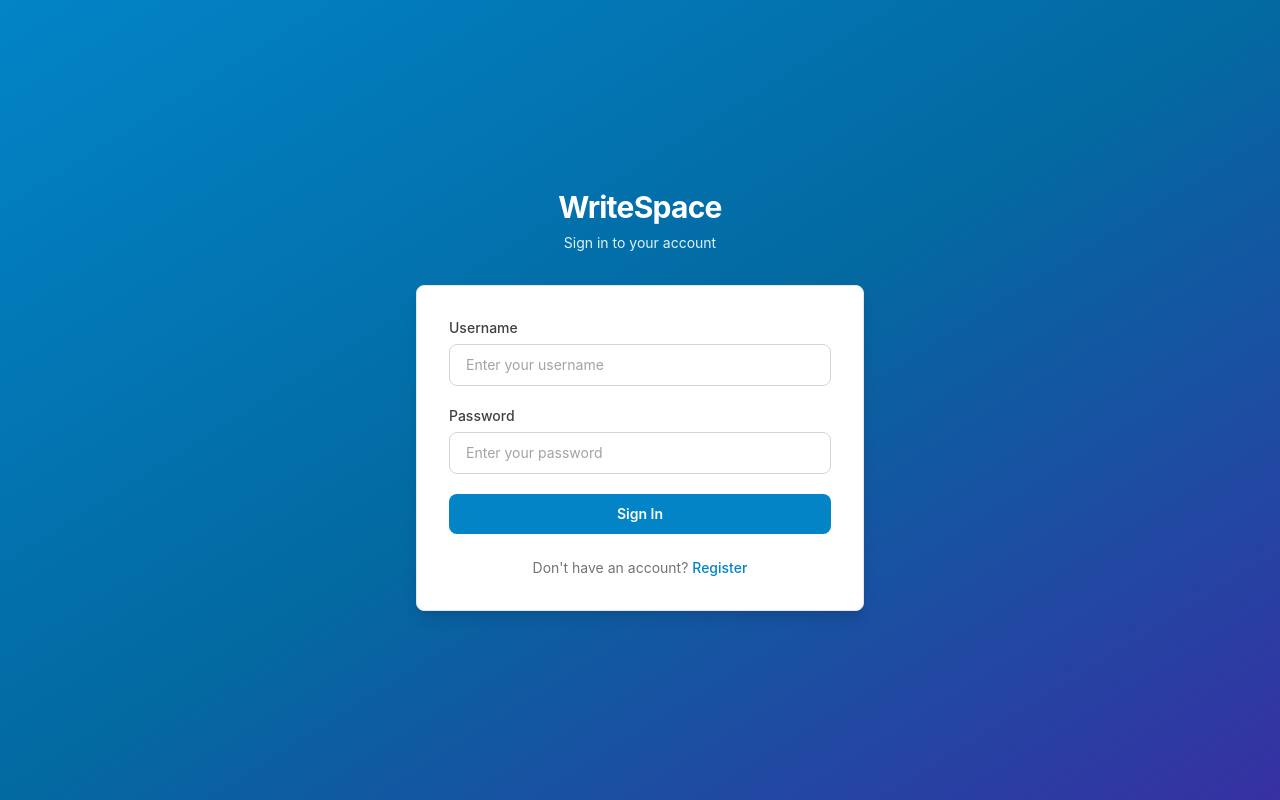
Test case: LoginPage › form validation › shows error when username and password are empty
The width and height of the screenshot is (1280, 800).
Click the button "Sign In" at (640, 514), box left=449, top=494, right=831, bottom=534
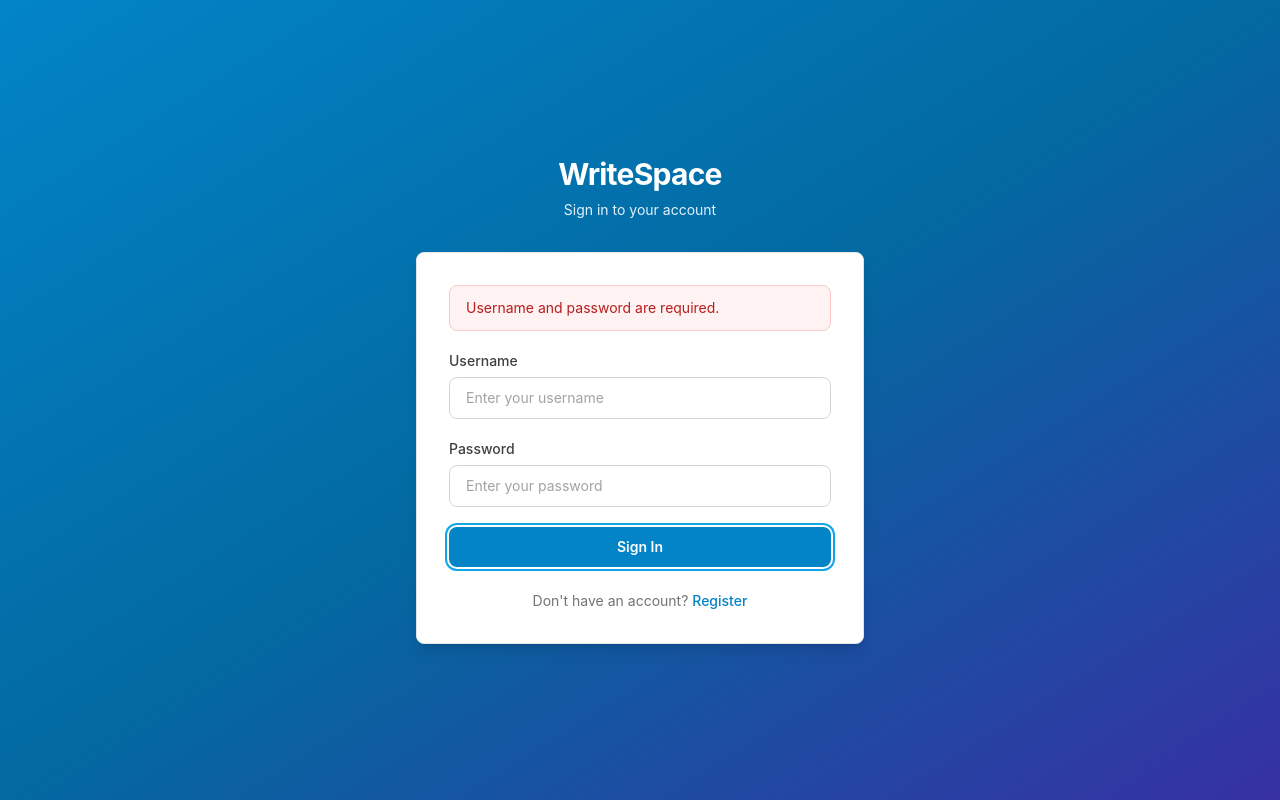
Now the text "Username and password are required." is shown, box left=449, top=285, right=831, bottom=331
